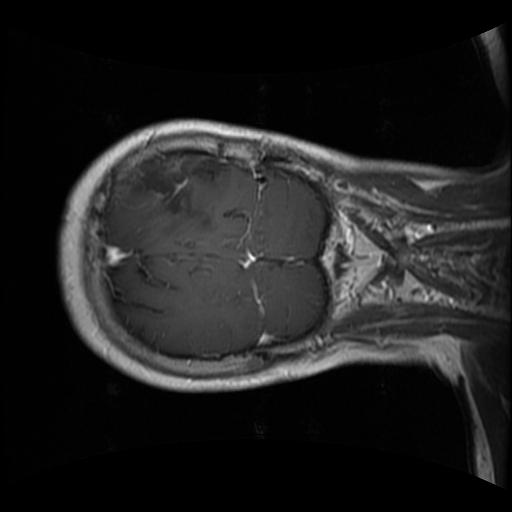glioma: (113, 155, 224, 218)
